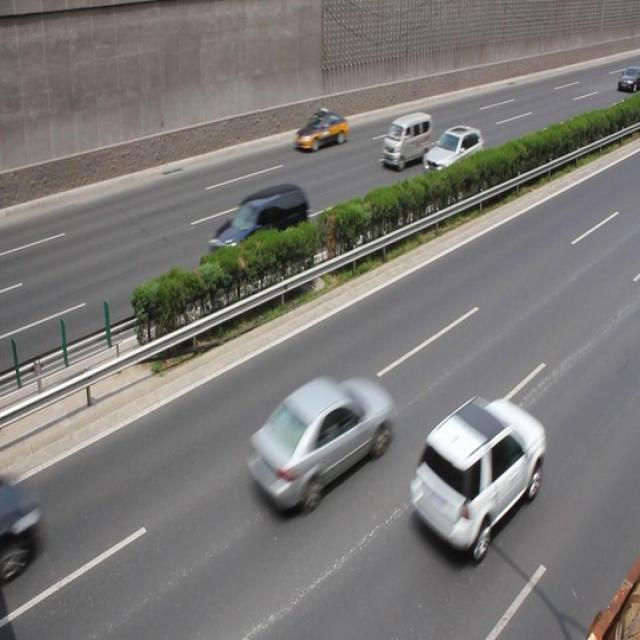car: (407, 394, 542, 562), (244, 374, 390, 517), (208, 185, 309, 281), (421, 124, 484, 184), (294, 109, 347, 154)
truck: (380, 113, 432, 171)
